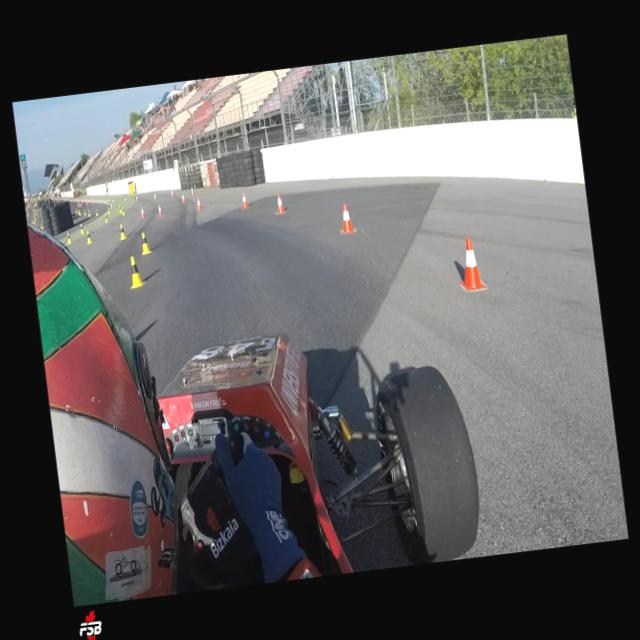orange_cone: (454, 235, 486, 291), (338, 202, 356, 234), (274, 192, 286, 215), (240, 192, 250, 209), (195, 196, 203, 210), (180, 193, 186, 203), (157, 204, 162, 216), (140, 206, 144, 218), (190, 186, 194, 195), (152, 192, 156, 200), (135, 195, 139, 201), (170, 189, 173, 197)
yellow_cone: (126, 254, 144, 288), (138, 230, 152, 254), (118, 223, 128, 240), (85, 228, 93, 244), (66, 231, 72, 244), (79, 223, 85, 234), (104, 212, 110, 222), (120, 206, 126, 215), (107, 207, 111, 215), (118, 204, 122, 212), (40, 222, 44, 228), (88, 210, 91, 218), (95, 209, 98, 216)
